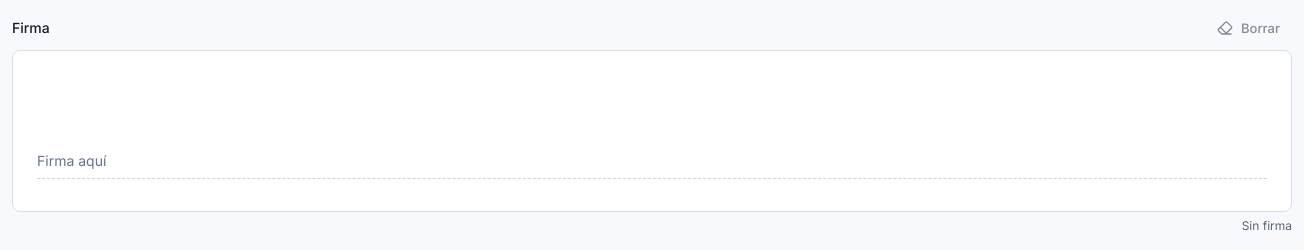
Scenario: SignaturePad › al terminar un trazo entrega un PNG y habilita «Borrar»
Press the mouse on the picture named "Firma" at (652, 131), box [13, 51, 1291, 211]
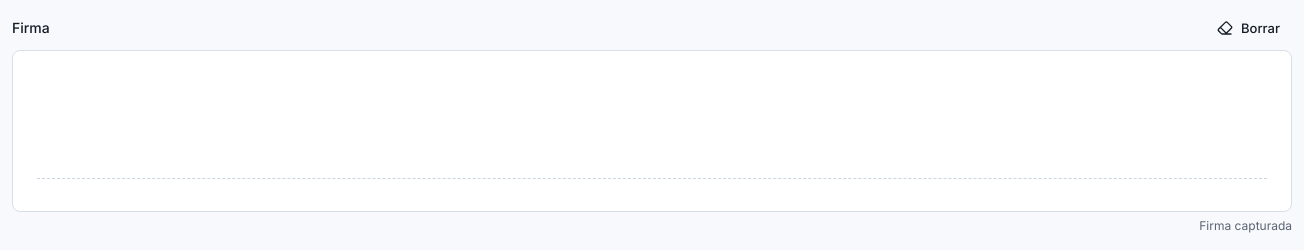
Expected: the message reads "Firma capturada", [1199, 218, 1292, 233]
Expected: the button "Borrar" is enabled, [1205, 12, 1292, 44]
